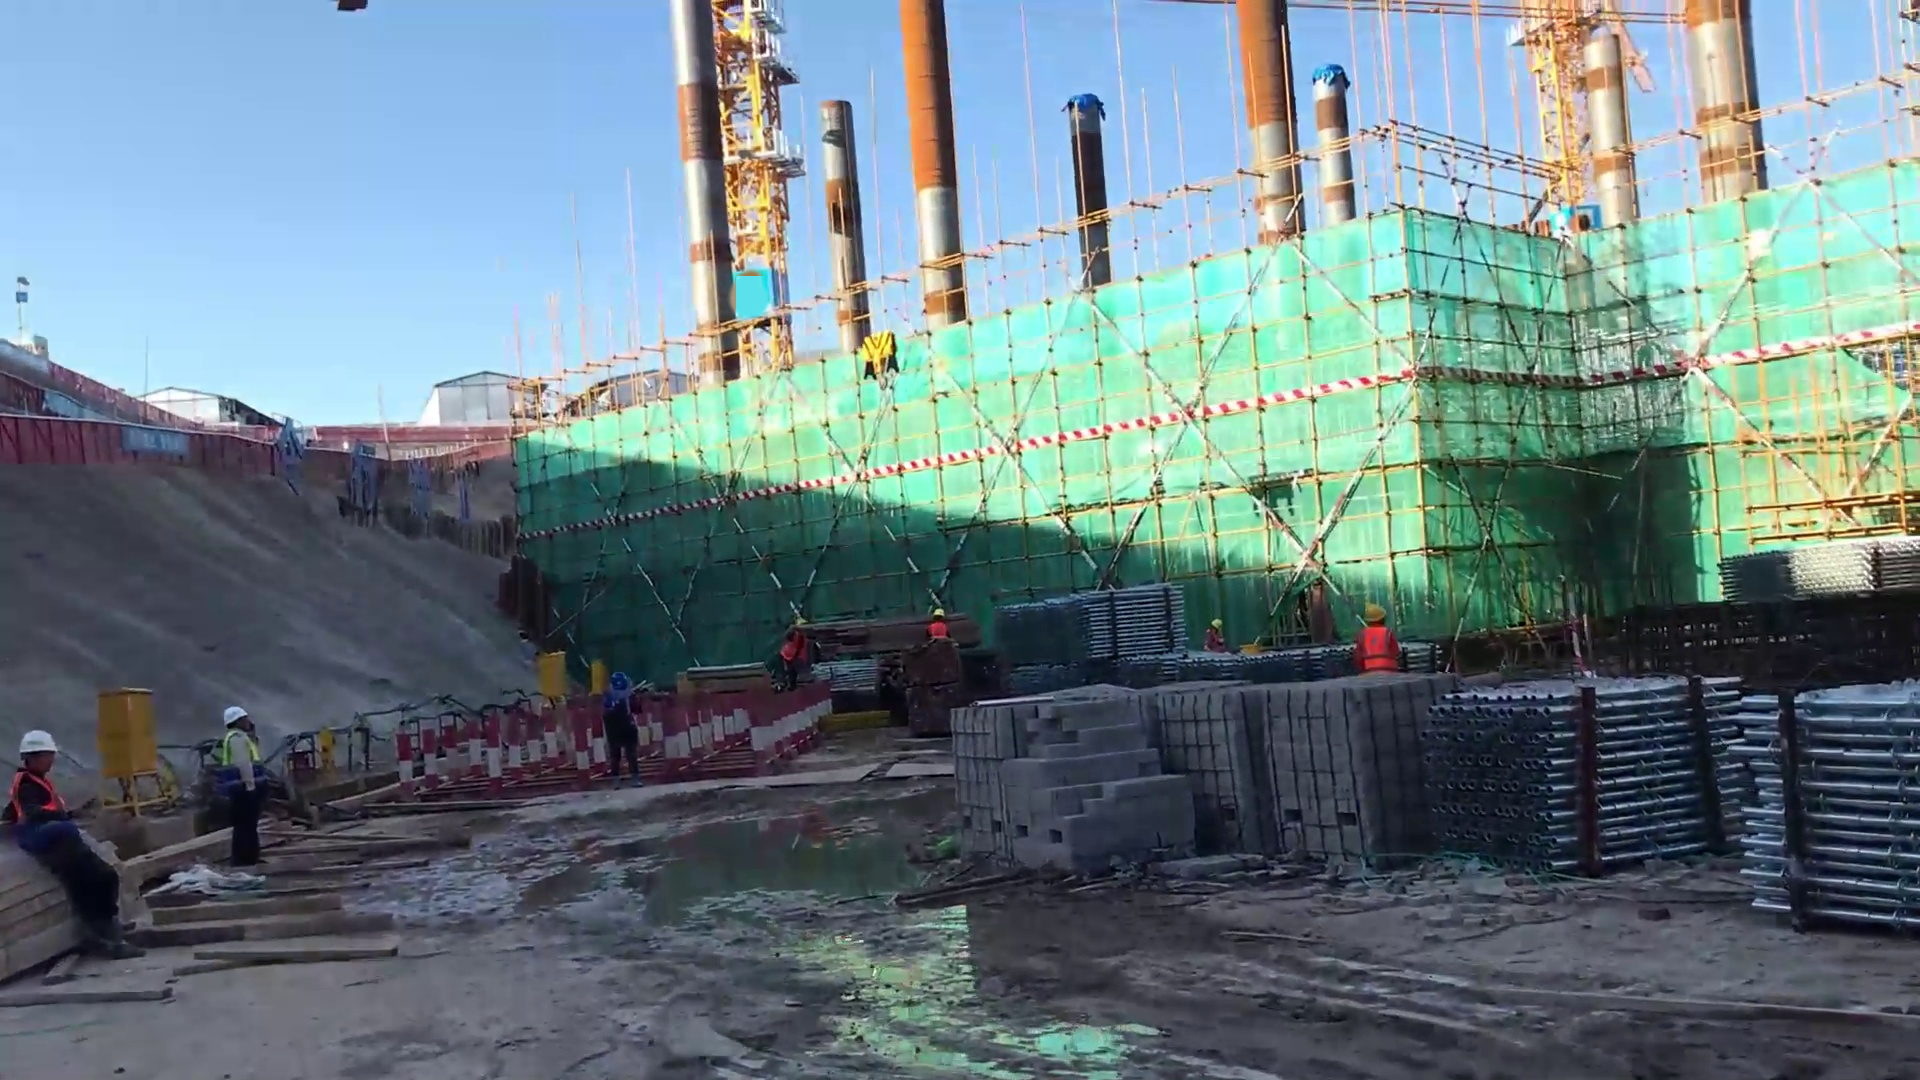brick: (949, 687, 1411, 913)
ebox: (88, 670, 160, 780), (535, 642, 576, 699)
fence: (1, 423, 271, 471)
helmet: (594, 665, 638, 708), (10, 721, 59, 752), (1356, 597, 1397, 633), (219, 696, 251, 725), (1207, 613, 1225, 625), (923, 604, 943, 614)
hook: (856, 330, 896, 390)
person: (1, 719, 146, 958), (203, 693, 270, 863), (595, 662, 651, 789), (1350, 599, 1402, 677), (773, 608, 823, 687), (916, 602, 951, 662)
scaffold: (1443, 668, 1729, 902), (1722, 664, 1920, 961), (967, 582, 1173, 671)
vest: (11, 769, 65, 822), (1358, 629, 1396, 669), (221, 736, 260, 776), (781, 628, 812, 660), (926, 620, 947, 639), (1204, 626, 1222, 648)
